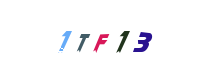1: (45, 0, 125, 80), (65, 0, 145, 80)
3: (103, 0, 183, 80)
F: (62, 0, 142, 80)
T: (61, 0, 141, 80)
